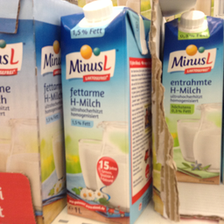milk: (56, 1, 153, 220), (162, 12, 223, 189)
